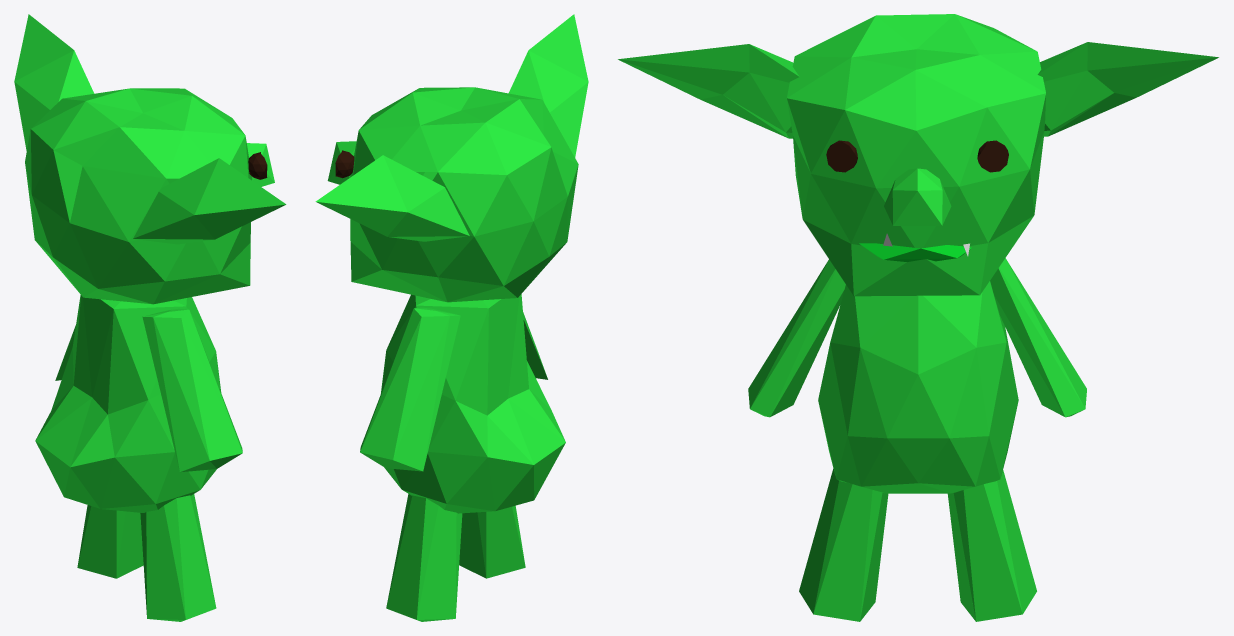
File: Goblins.gltf
3 renders of one model, left to right at view 1: azimuth 30°, elevation 25°; view 2: azimuth 150°, elevation 25°; view 3: azimuth 270°, elevation 25°, orthographic. The views are drawn at different scales.
Visible parts, largest first — view 1: Tête, Corps, Bras droit.002, Oreille gauche, Jambe droite.002, Oreille droite, Jambe droite, Nez, Oeil gauche; view 2: Tête, Corps, Bras droit, Oreille droite, Jambe droite, Oreille gauche, Jambe droite.002, Bras droit.002, Nez, Oeil droit; view 3: Tête, Corps, Jambe droite.002, Jambe droite, Oreille droite, Oreille gauche, Bras droit.002, Bras droit, Nez, Bouche, Oeil droit, Oeil gauche.
Boxes of the visible parts, x1,y1,x2,y2 form: Tête: (25, 88, 252, 304); Corps: (35, 295, 221, 512); Bras droit.002: (142, 308, 242, 472); Oreille gauche: (133, 158, 286, 244); Jambe droite.002: (140, 494, 216, 621); Oreille droite: (14, 14, 93, 150); Jambe droite: (77, 505, 143, 578); Nez: (246, 143, 274, 186); Oeil gauche: (248, 152, 267, 179); Tête: (350, 87, 578, 302); Corps: (381, 294, 565, 513); Bras droit: (360, 307, 460, 471); Oreille droite: (315, 155, 469, 241); Jambe droite: (386, 494, 462, 621); Oreille gauche: (508, 14, 588, 157); Jambe droite.002: (459, 505, 525, 578); Bras droit.002: (523, 312, 547, 379); Nez: (327, 141, 356, 184); Oeil droit: (335, 150, 354, 178); Tête: (787, 14, 1045, 296); Corps: (818, 281, 1018, 493); Jambe droite.002: (799, 468, 888, 621); Jambe droite: (947, 470, 1036, 621); Oreille droite: (1037, 42, 1218, 136); Oreille gauche: (618, 44, 799, 138); Bras droit.002: (748, 259, 845, 417); Bras droit: (990, 258, 1086, 417); Nez: (884, 168, 951, 225); Bouche: (859, 243, 971, 261); Oeil droit: (977, 140, 1008, 172); Oeil gauche: (826, 140, 857, 172).
Size of the model in its own units: 2.04 by 4.46 by 4.23.
